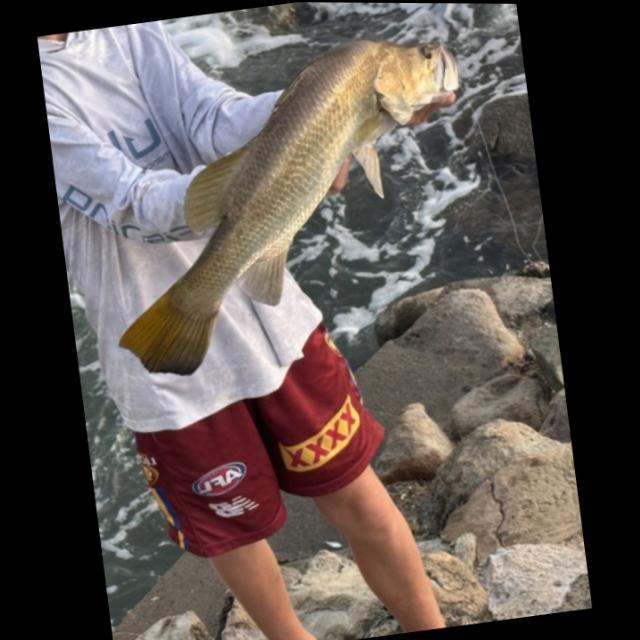Seabass: (80, 23, 499, 385)
